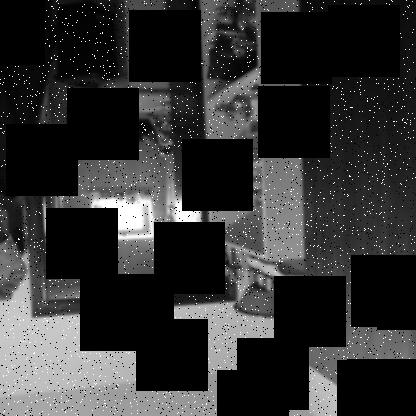Porte: (16, 1, 241, 318)
